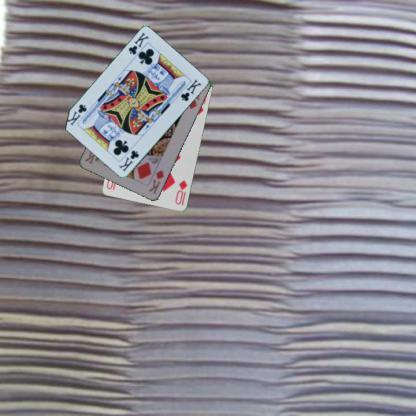10d: (173, 177, 189, 207)
Kc: (116, 148, 141, 173), (126, 30, 150, 56)
Kd: (146, 168, 165, 195)
